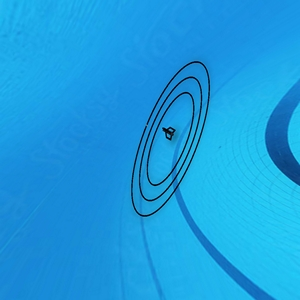circle: (132, 59, 213, 227)
submarine: (163, 123, 179, 141)
